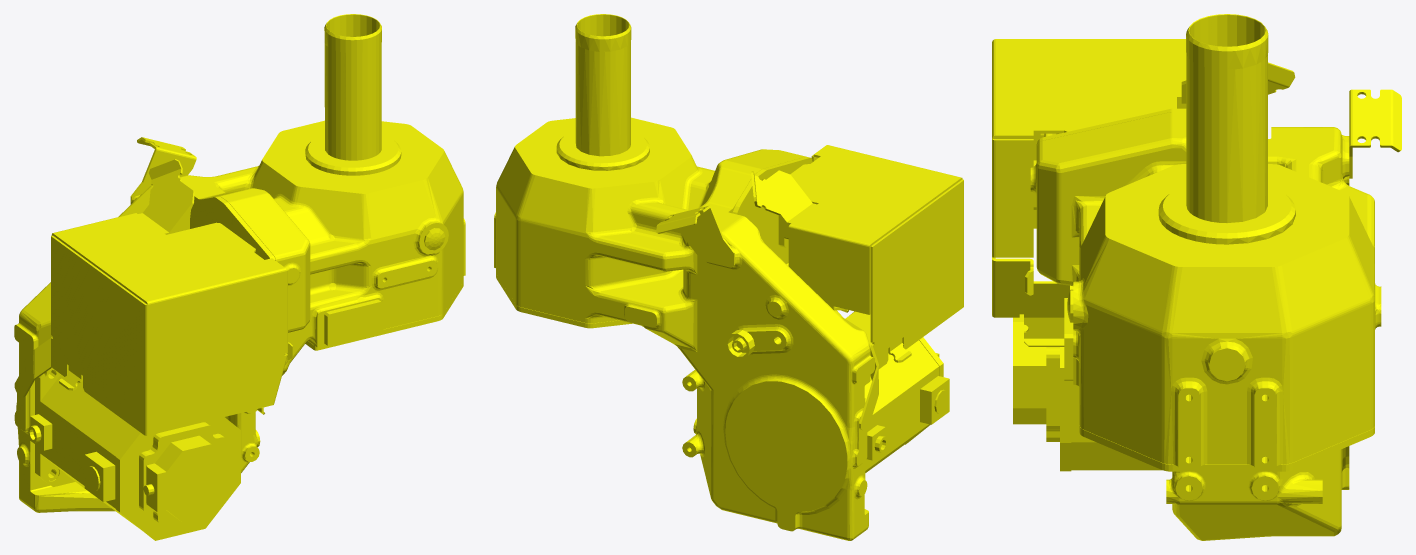
3 views of the same model, side by side, from view 1: azimuth 30°, elevation 25°; view 2: azimuth 150°, elevation 25°; view 3: azimuth 270°, elevation 25° (orthographic). The views are drawn at different scales.
Parts seen in each view (by area): view 1: node; view 2: node; view 3: node.
Boxes of the visible parts, x1=… form: node: x1=14, y1=14, x2=465, y2=540; node: x1=494, y1=14, x2=963, y2=540; node: x1=992, y1=14, x2=1401, y2=540.
Size of the model in its own units: 433 by 453 by 269.
